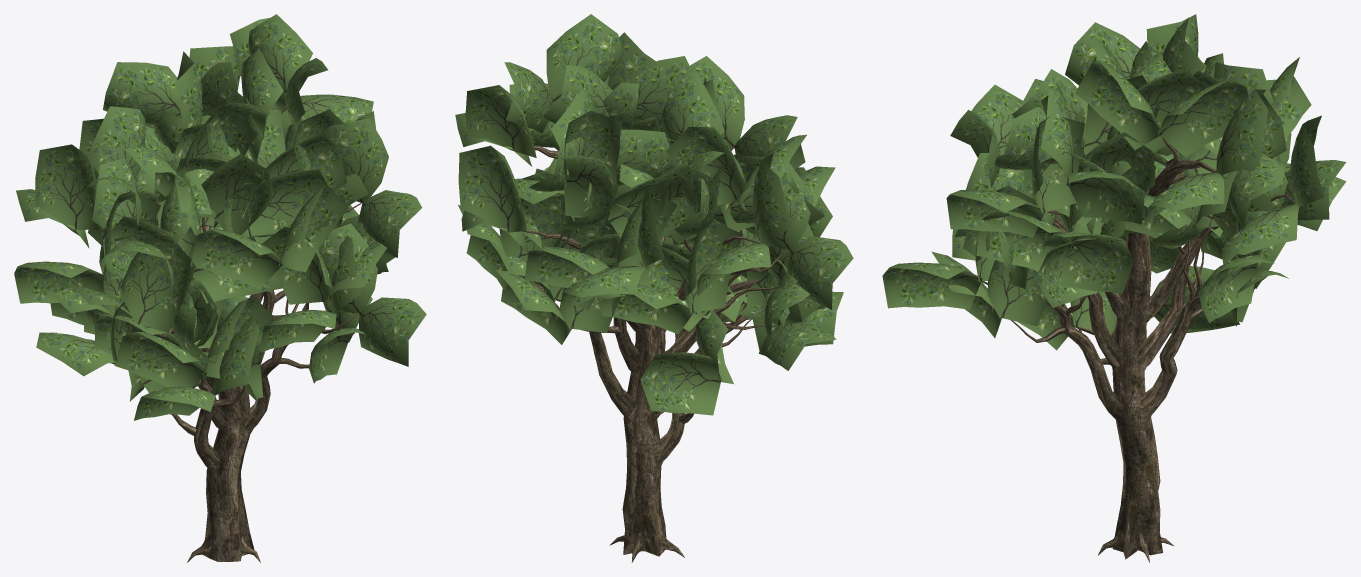
The model's file is Tree_mangro.fbx.
The picture shows the model from 3 angles, left to right: view 1: azimuth 30°, elevation 25°; view 2: azimuth 150°, elevation 25°; view 3: azimuth 270°, elevation 25°; orthographic projection. The views are drawn at different scales.
Visible parts, largest first — view 1: LOD0; view 2: LOD0; view 3: LOD0.
Boxes of the visible parts, x1,y1,x2,y2 form: LOD0: (14,14,426,562); LOD0: (455,14,853,562); LOD0: (882,14,1346,562).
Size of what is drawn, in the model's own units: 58.2 by 73.42 by 58.67.
